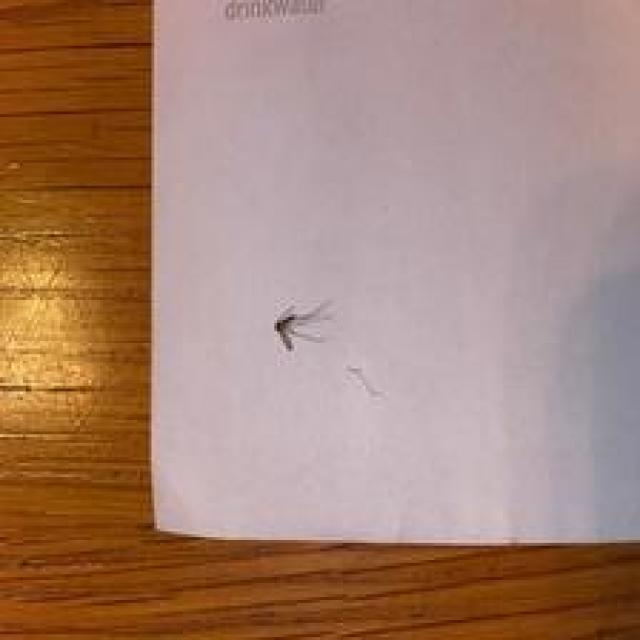Culex: (272, 297, 332, 352)
